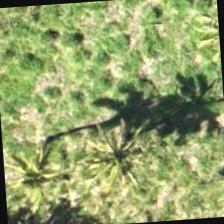Kelapa_Sawit: (73, 104, 169, 200), (1, 131, 71, 223)
